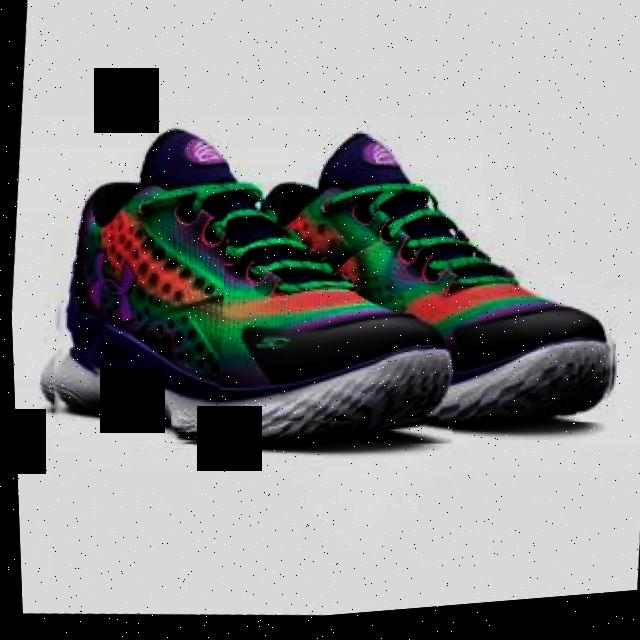shoe: (25, 102, 475, 477), (205, 111, 635, 458)
